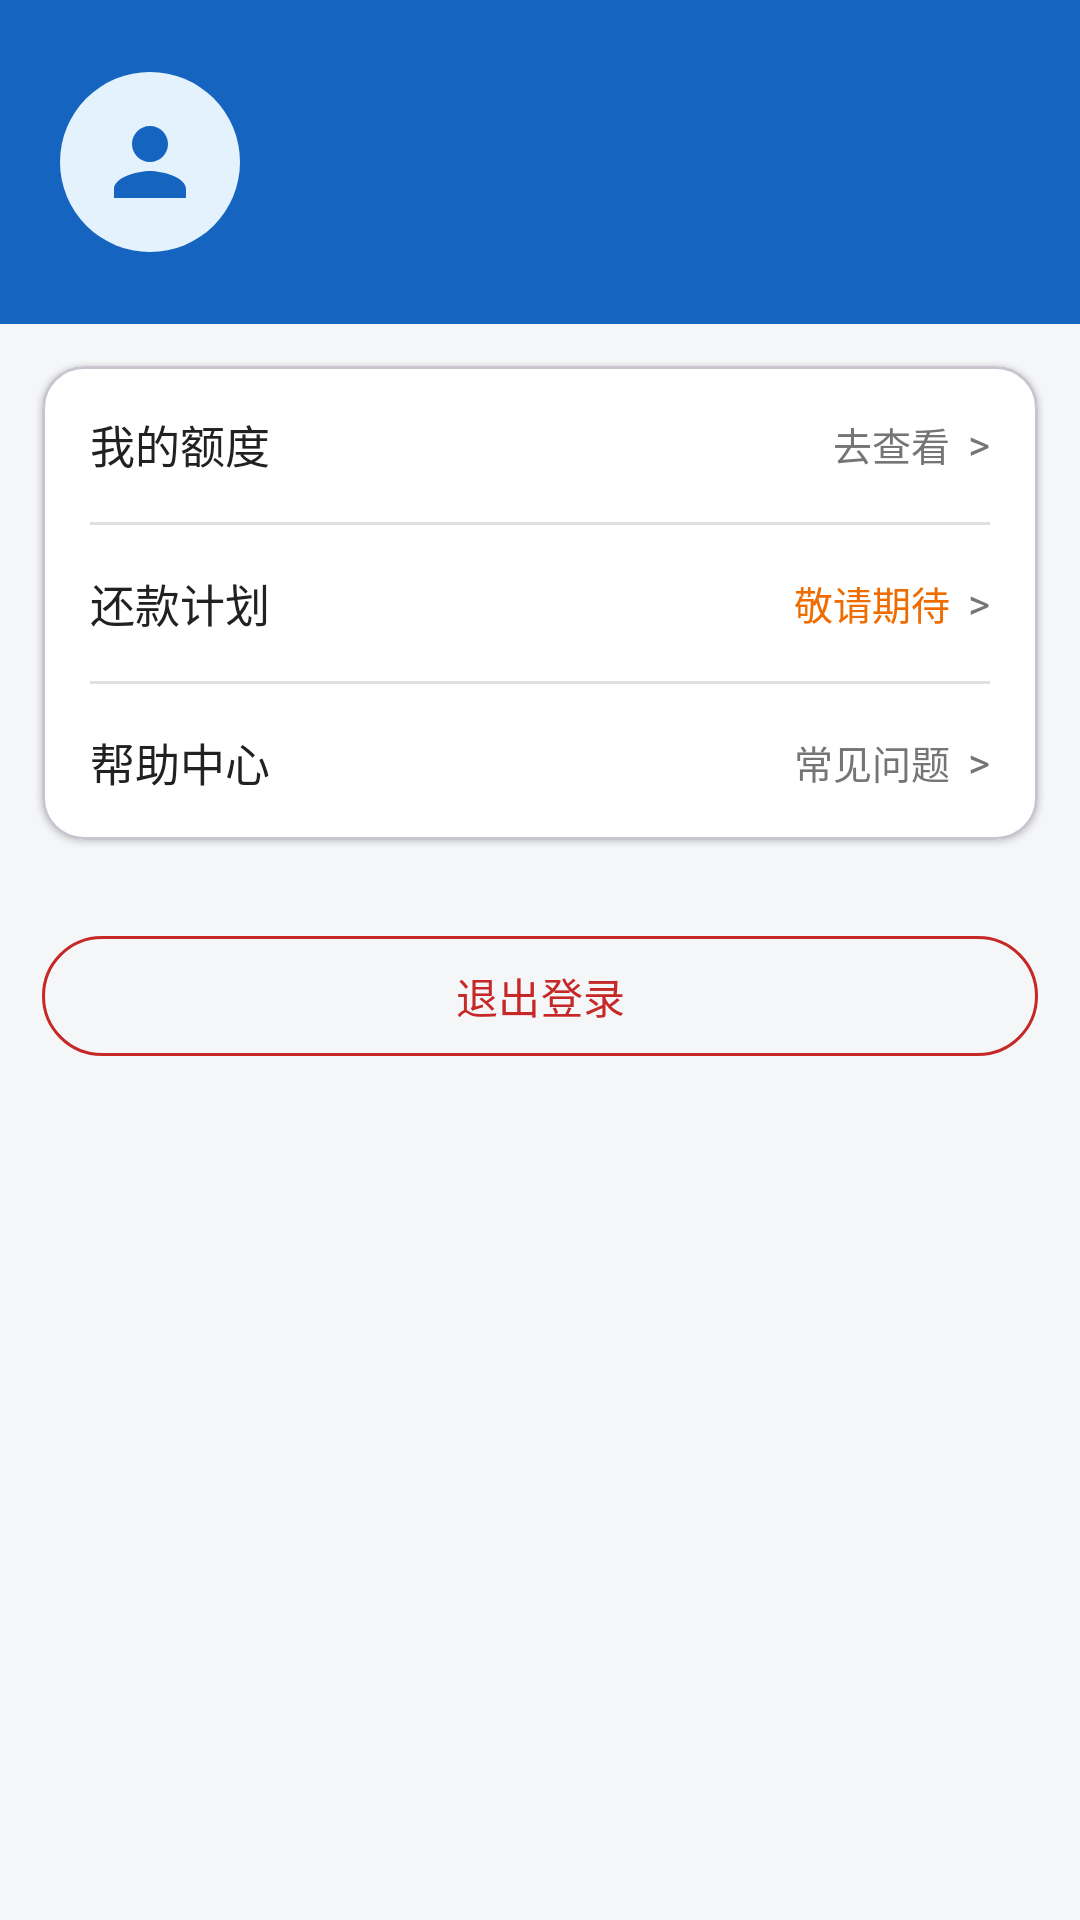

Icon bounding boxes for this 1080×1920 phone screenshot, format (x1, y1, x2, y2):
用户头像: (60, 72, 240, 252)
